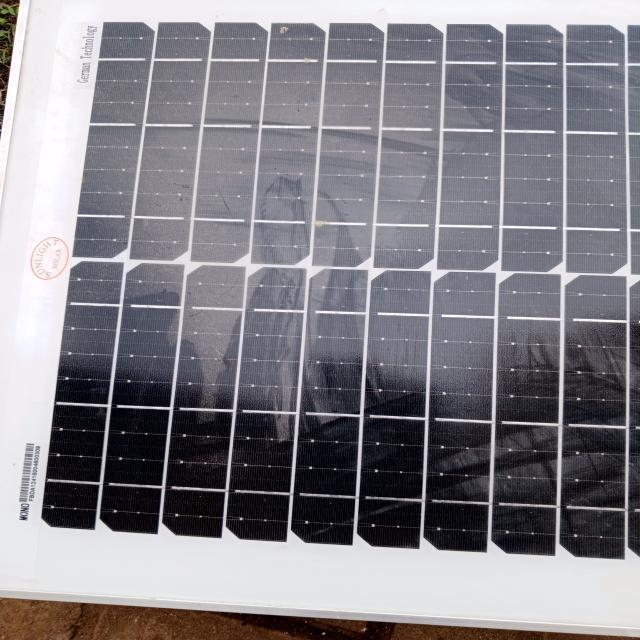Anomaly Solar Panel: (67, 22, 626, 586)
Surface Contaminant: (68, 20, 623, 585)
